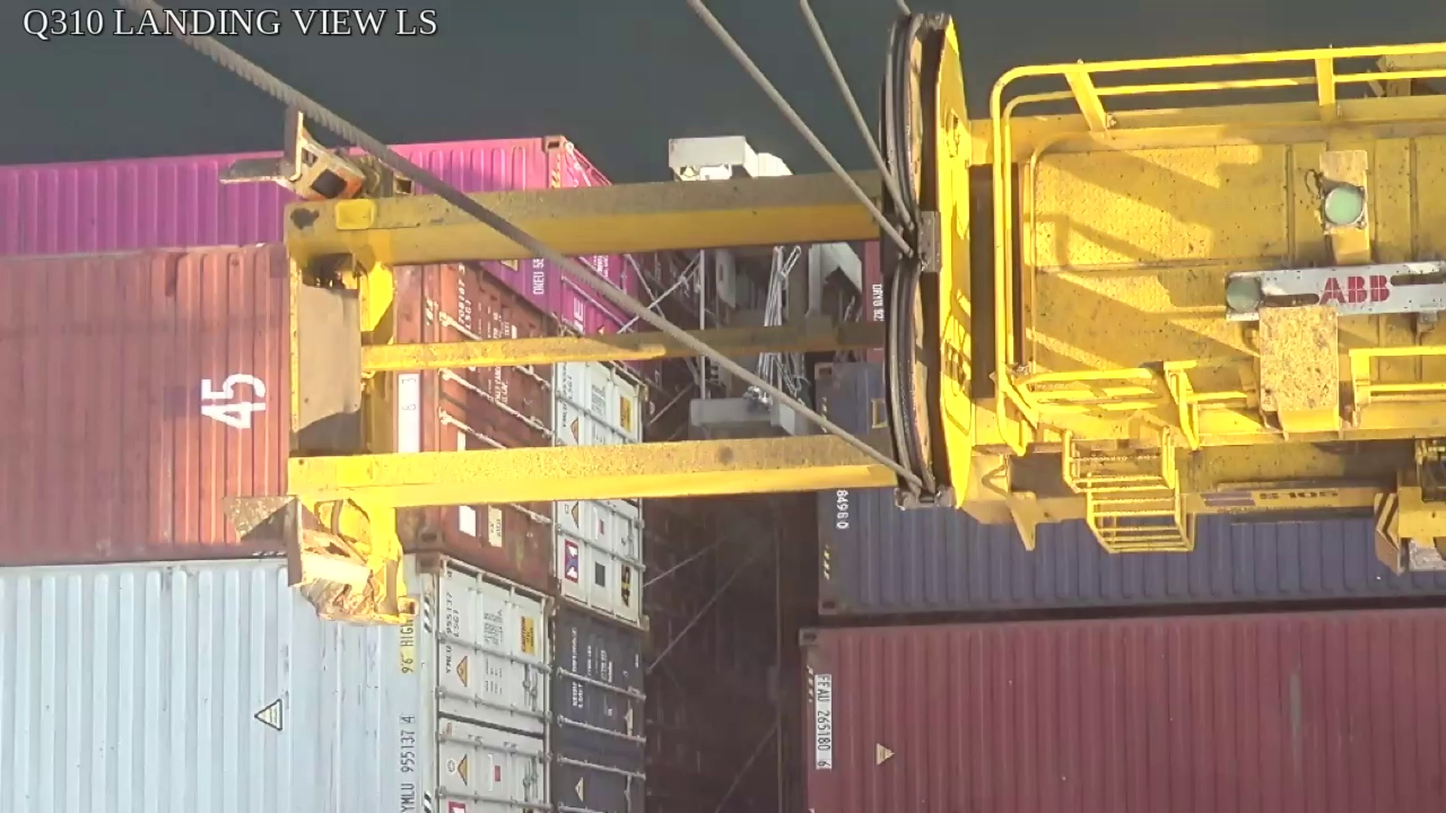aa: (881, 14, 979, 513)
